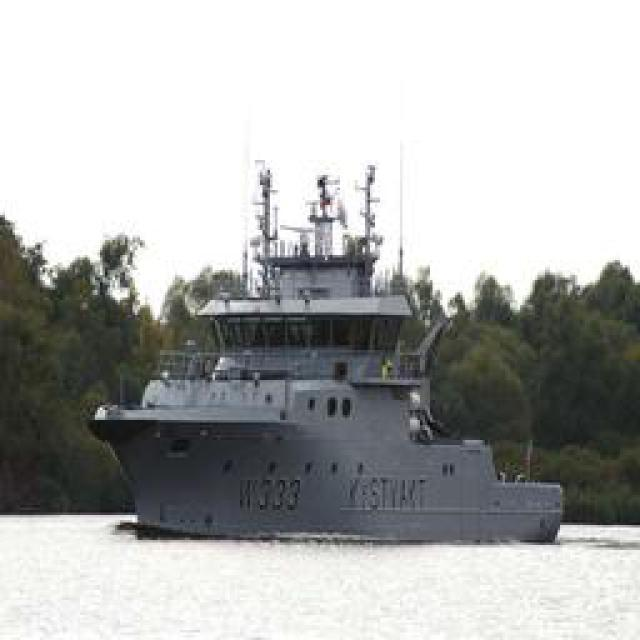Ship: (90, 283, 573, 551)
